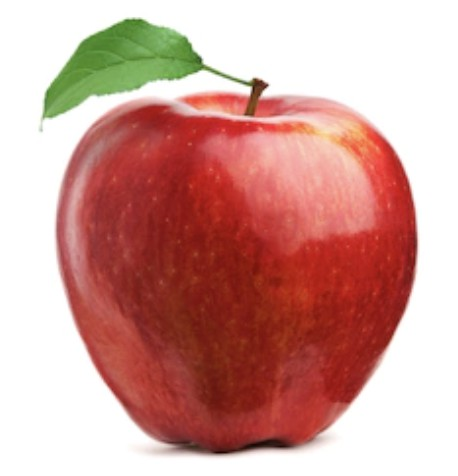fresh_apple: (58, 86, 419, 455)
